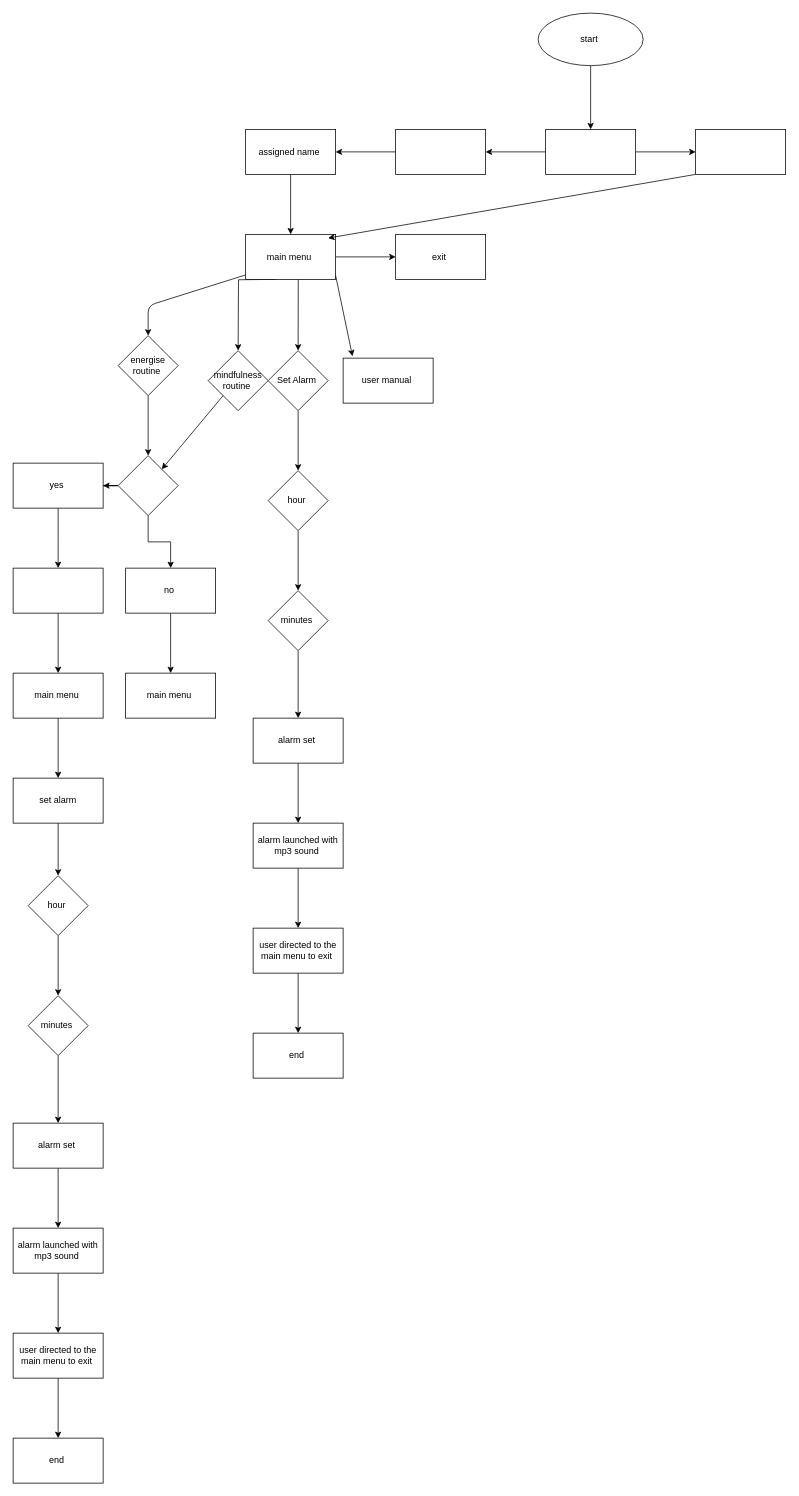
Some shapes in this 799 by 1496 pixel diagram are drawn without their labels. Each missing label, with the centre of its shape:
"are you ready" goes at (147,485).
"enter name" goes at (590,151).
"name" goes at (740,151).
"no entry- try again" goes at (440,151).
"runs routine" goes at (57,590).
